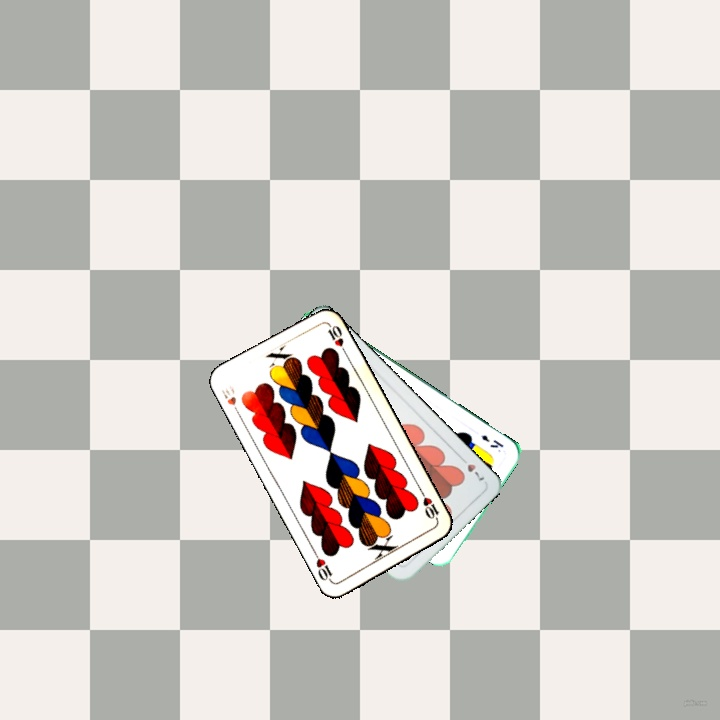EK: (477, 431, 506, 451)
H10: (417, 487, 442, 525), (217, 386, 243, 418)
H7: (456, 452, 487, 485)
